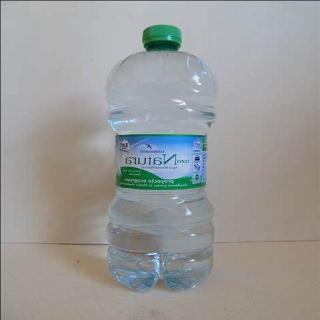Anorganik: (95, 20, 225, 293)
